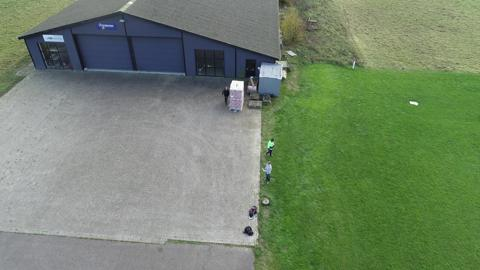RockwoolPallet: (228, 79, 246, 109)
